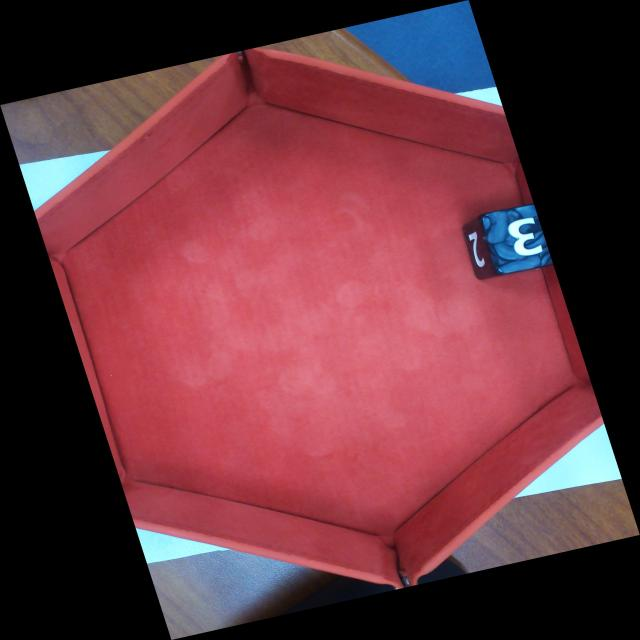dice: (488, 205, 555, 273)
